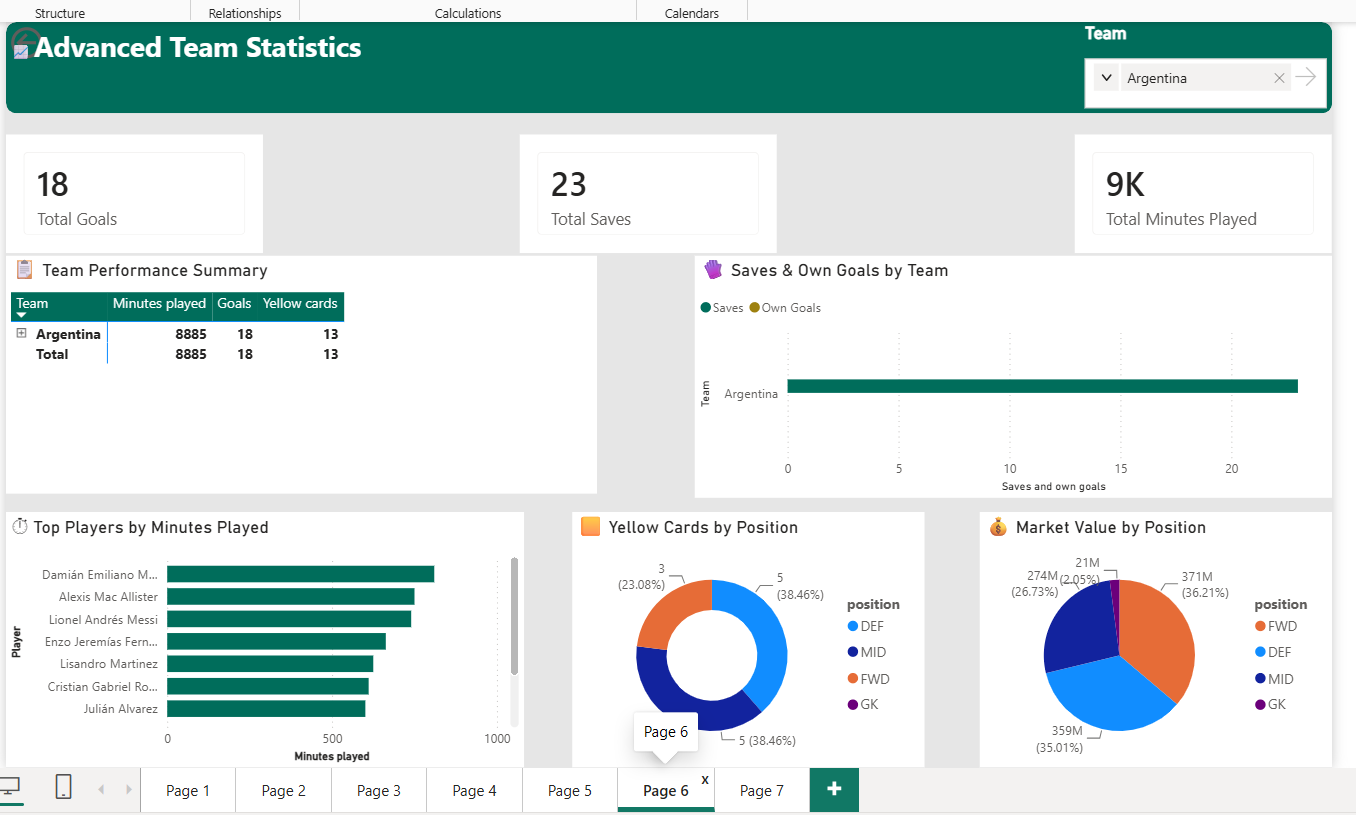

The dashboard page shown, as its layout file describes it:
{"tool":"powerbi","page":{"name":"Page 6","canvas":[1280,720],"ordinal":5},"visuals":[{"type":"shape","box":[0,0,1280,88.2],"z":0},{"type":"textSlicer","title":"Team","fields":{"Values":["teams.team_name"]},"box":[1036.3,0,243.7,88.4],"z":1000},{"type":"pivotTable","title":"📋 Team Performance Summary","fields":{"Rows":["teams.team_name","squads_and_players.position","squads_and_players.player_name"],"Values":["Sum(player_stats.minutes_played)","Sum(player_stats.goals)","Sum(player_stats.yellow_cards)"]},"box":[0,225.2,570.2,229.5],"z":2000},{"type":"actionButton","box":[0,0,100,40],"z":3000},{"type":"clusteredBarChart","title":"⏱ Top Players by Minutes Played","fields":{"Category":["player_stats.player_name"],"Y":["Sum(player_stats.minutes_played)"]},"box":[0,473.2,500,246.6],"z":4000},{"type":"donutChart","title":"🟨 Yellow Cards by Position","fields":{"Category":["player_stats.position"],"Y":["Sum(player_stats.yellow_cards)"]},"box":[545.9,473.2,340,246.6],"z":5000},{"type":"pieChart","title":"💰 Market Value by Position","fields":{"Category":["squads_and_players.position"],"Y":["Sum(squads_and_players.market_value_eur)"]},"box":[939.3,473.2,340,246.6],"z":6000},{"type":"clusteredBarChart","title":"🧤 Saves & Own Goals by Team","fields":{"Category":["teams.team_name"],"Y":["Sum(player_stats.saves)","Sum(player_stats.own_goals)"]},"box":[664.2,225.2,615.8,233.8],"z":7000},{"type":"textbox","box":[0,0,496,88.4],"z":8000},{"type":"cardVisual","fields":{"Data":["player_stats.Total Goals"]},"box":[0,108.3,248,114],"z":9000},{"type":"cardVisual","fields":{"Data":["player_stats.Total Saves"]},"box":[496,108.3,248,114],"z":10000},{"type":"cardVisual","fields":{"Data":["player_stats.Total Minutes Played"]},"box":[1032,108.3,248,114],"z":11000}]}

Visuals, with their boxes on the page's 1280x720 design canvas (x1, y1, x2, y2). These are canvas units, not pixel positions in the 1356x815 screenshot, which may show the page scaled, cropped or inside an application window:
shape: <box>0,0,1280,88</box>
"Team" textSlicer: <box>1036,0,1280,88</box>
"📋 Team Performance Summary" pivotTable: <box>0,225,570,455</box>
actionButton: <box>0,0,100,40</box>
"⏱ Top Players by Minutes Played" clusteredBarChart: <box>0,473,500,720</box>
"🟨 Yellow Cards by Position" donutChart: <box>546,473,886,720</box>
"💰 Market Value by Position" pieChart: <box>939,473,1279,720</box>
"🧤 Saves & Own Goals by Team" clusteredBarChart: <box>664,225,1280,459</box>
textbox: <box>0,0,496,88</box>
cardVisual - player_stats.Total Goals: <box>0,108,248,222</box>
cardVisual - player_stats.Total Saves: <box>496,108,744,222</box>
cardVisual - player_stats.Total Minutes Played: <box>1032,108,1280,222</box>
